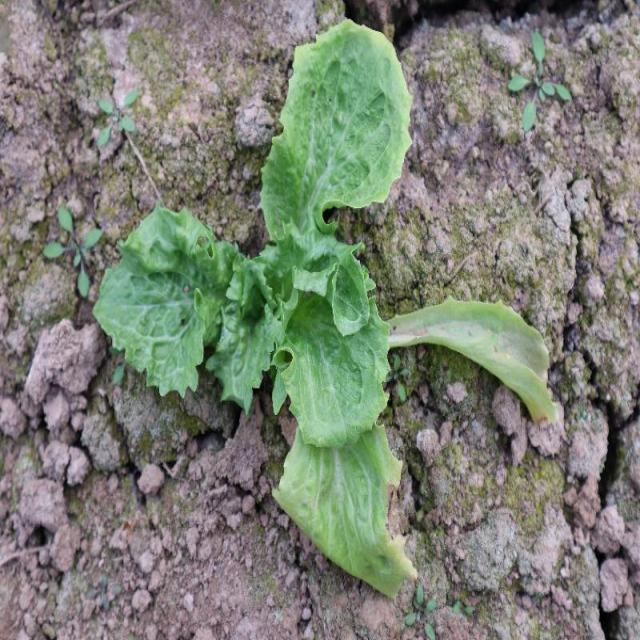crop: (95, 21, 553, 596)
